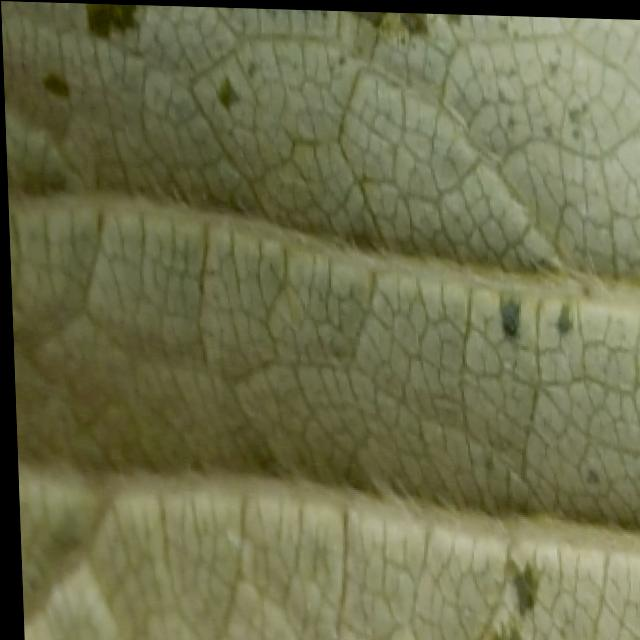Angular Leafspot: (3, 0, 640, 640)
